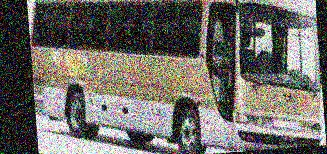bus: (27, 0, 326, 154)
